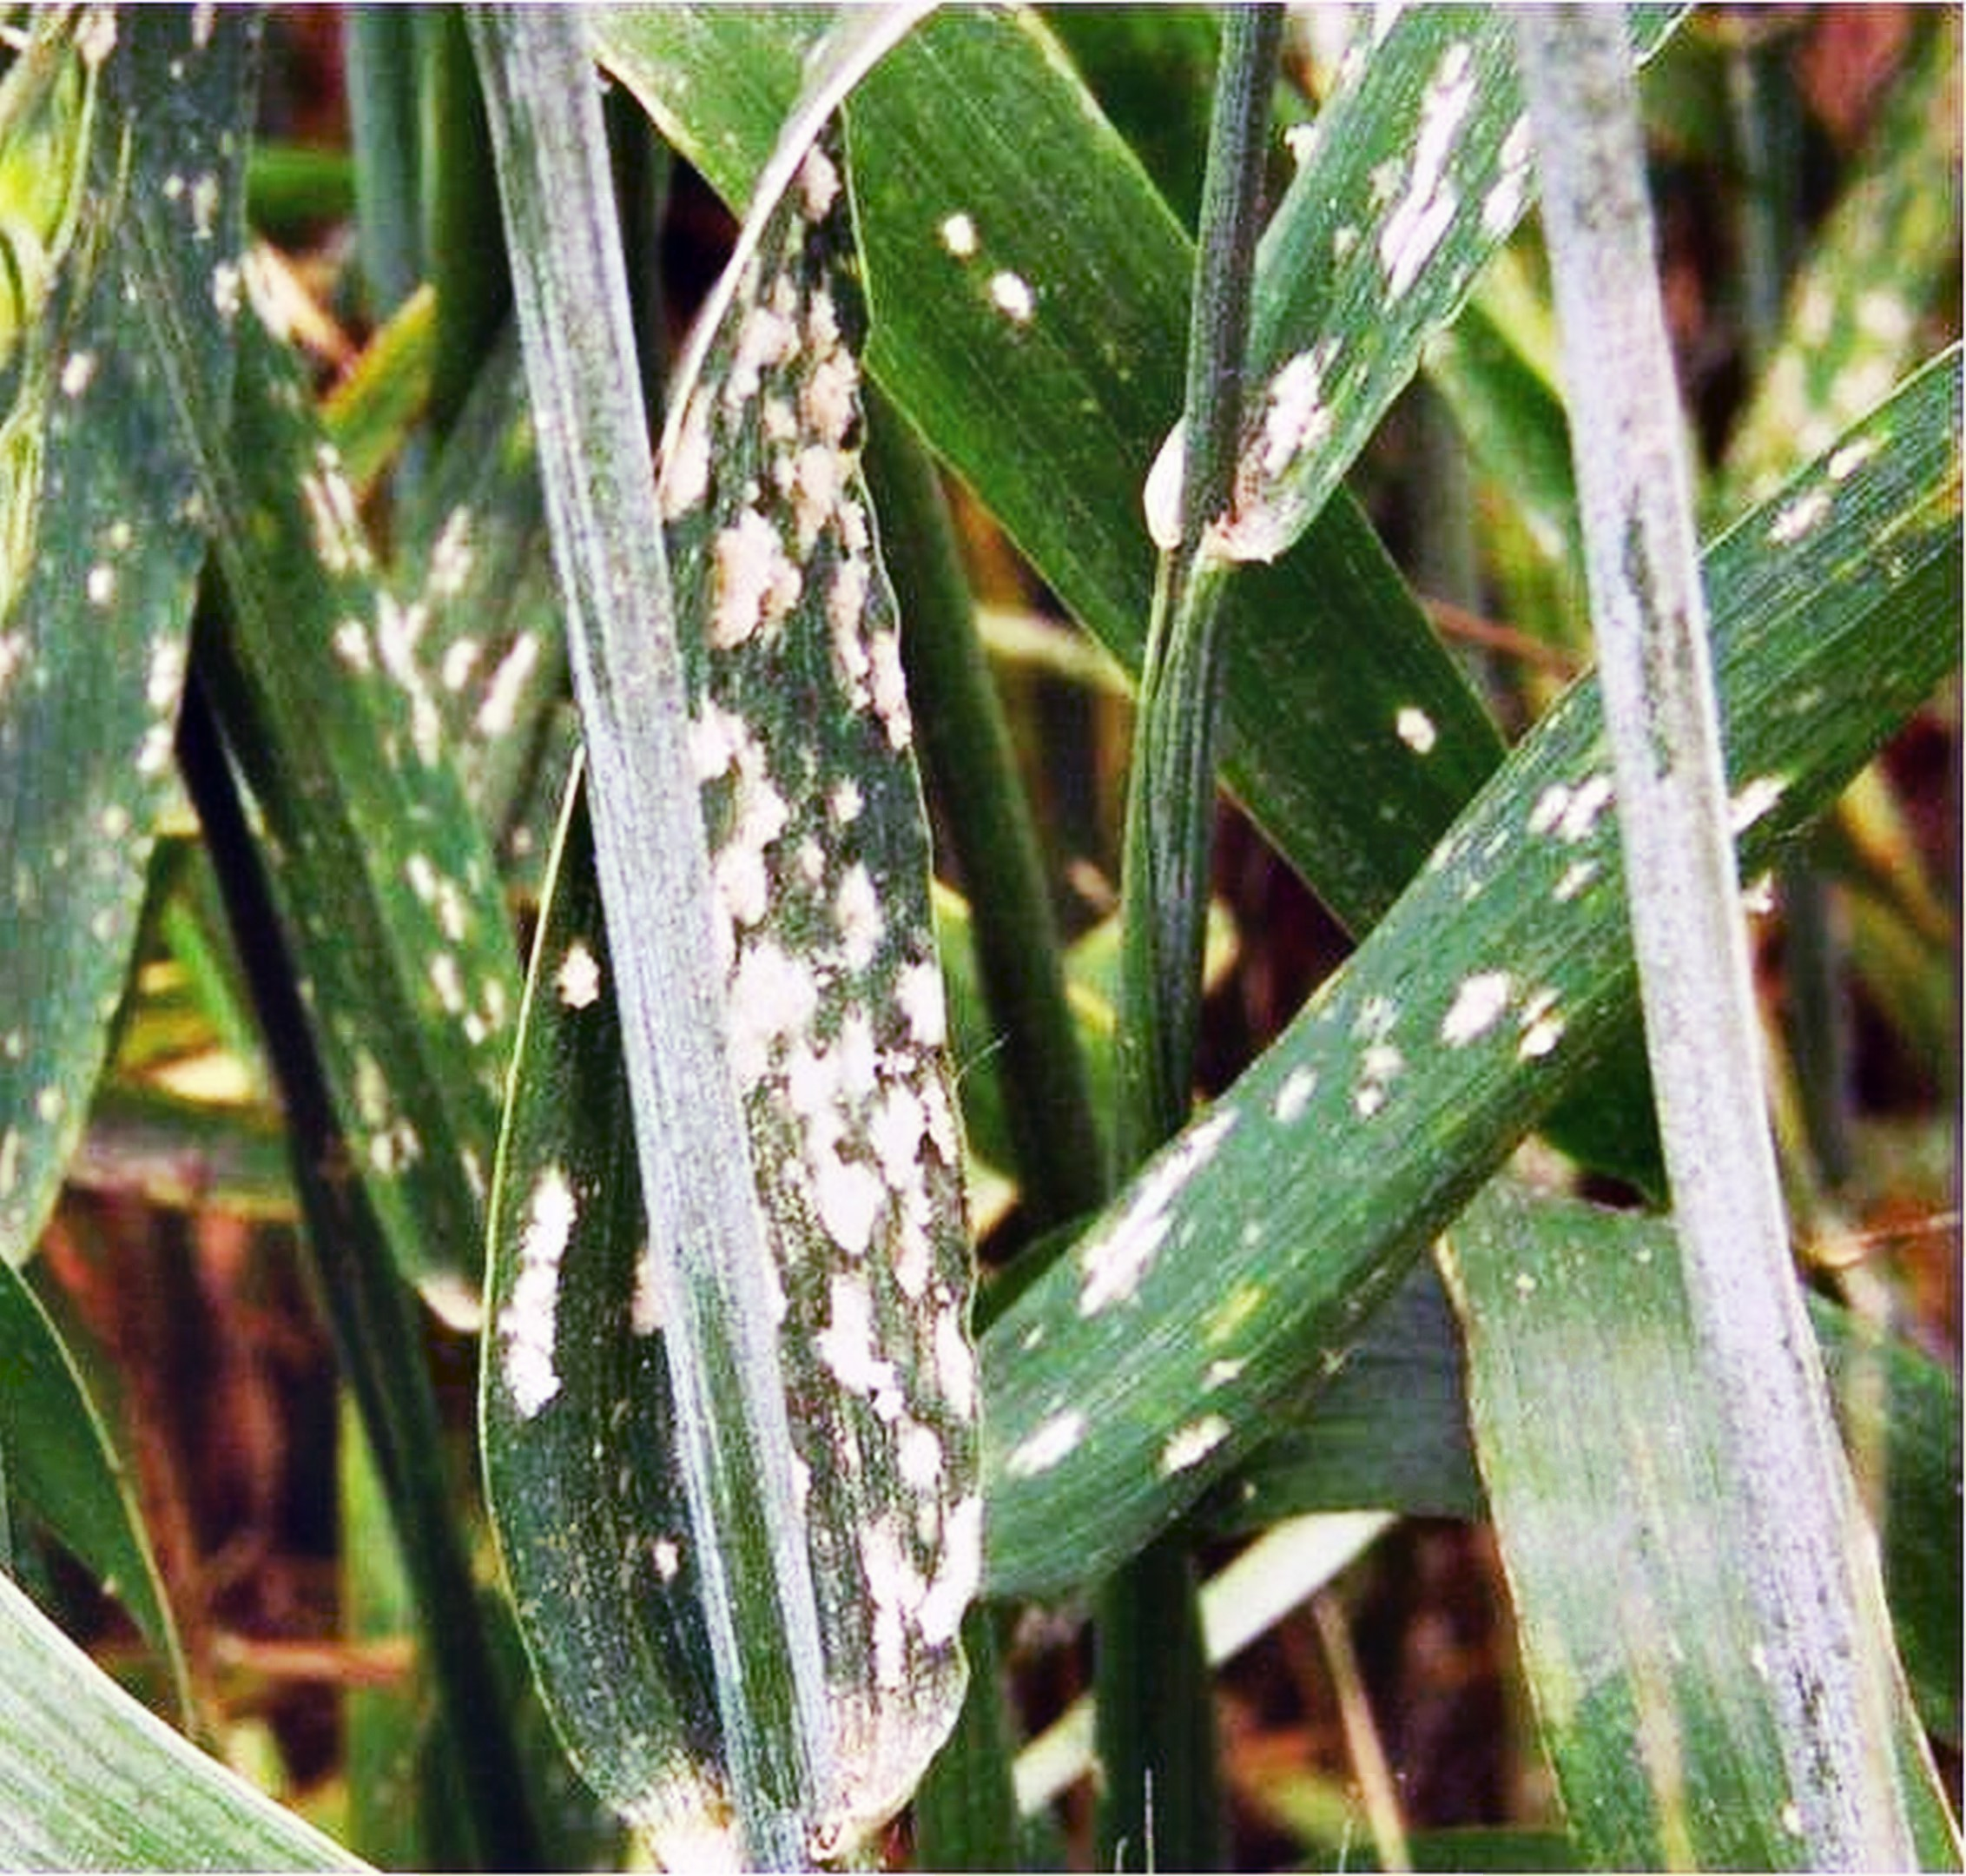Powdery Mildew: (623, 312, 1044, 1641)
